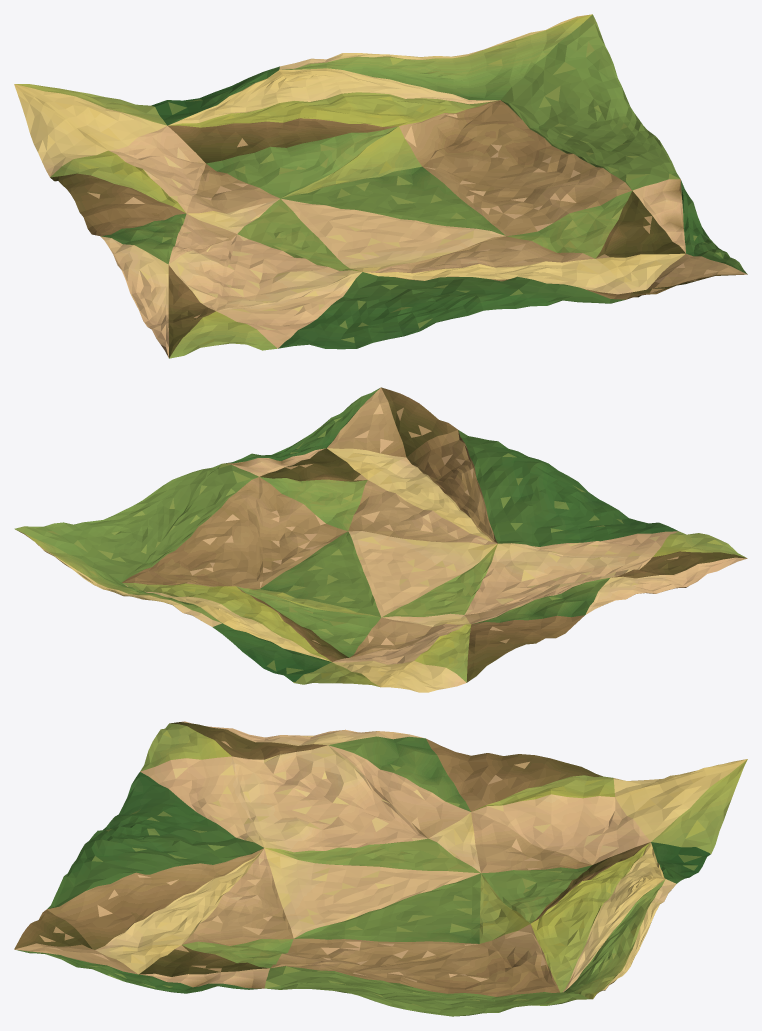
The model's file is Grasslands.FBX.
3 renders of one model, top to bottom at view 1: azimuth 30°, elevation 25°; view 2: azimuth 150°, elevation 25°; view 3: azimuth 270°, elevation 25°, orthographic. The views are drawn at different scales.
Visible parts, largest first — view 1: Grasslands; view 2: Grasslands; view 3: Grasslands.
Part boxes in pixels (x1=…): Grasslands: x1=14, y1=14, x2=747, y2=358; Grasslands: x1=14, y1=387, x2=747, y2=692; Grasslands: x1=14, y1=721, x2=747, y2=1016.
Bounding box in the file's own units: 2449 × 2449 × 217.
